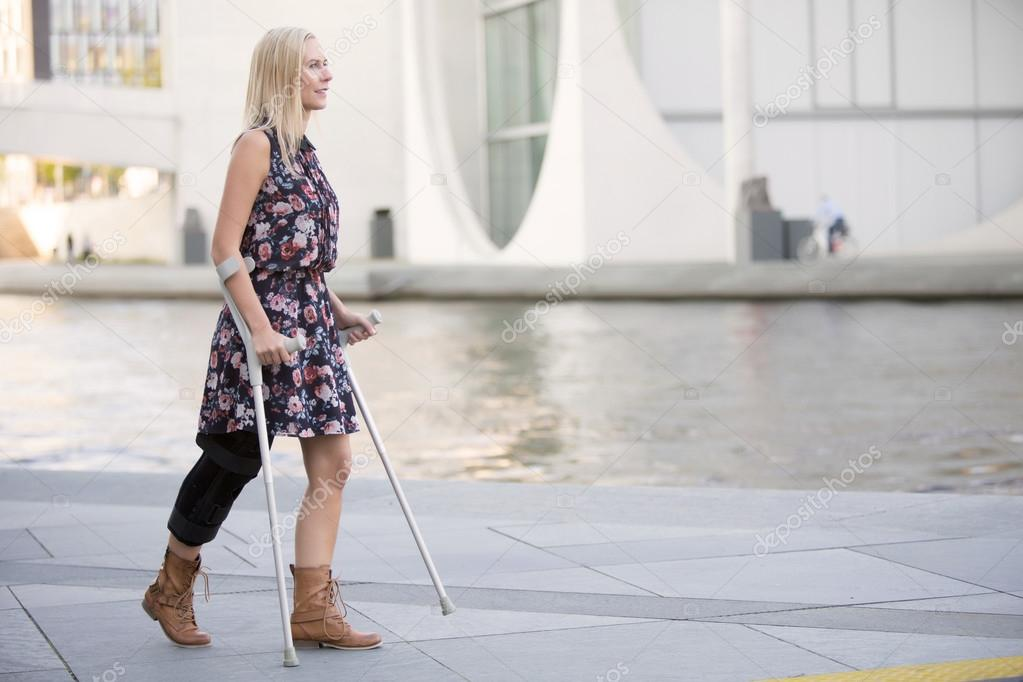crutches: (141, 25, 457, 668)
